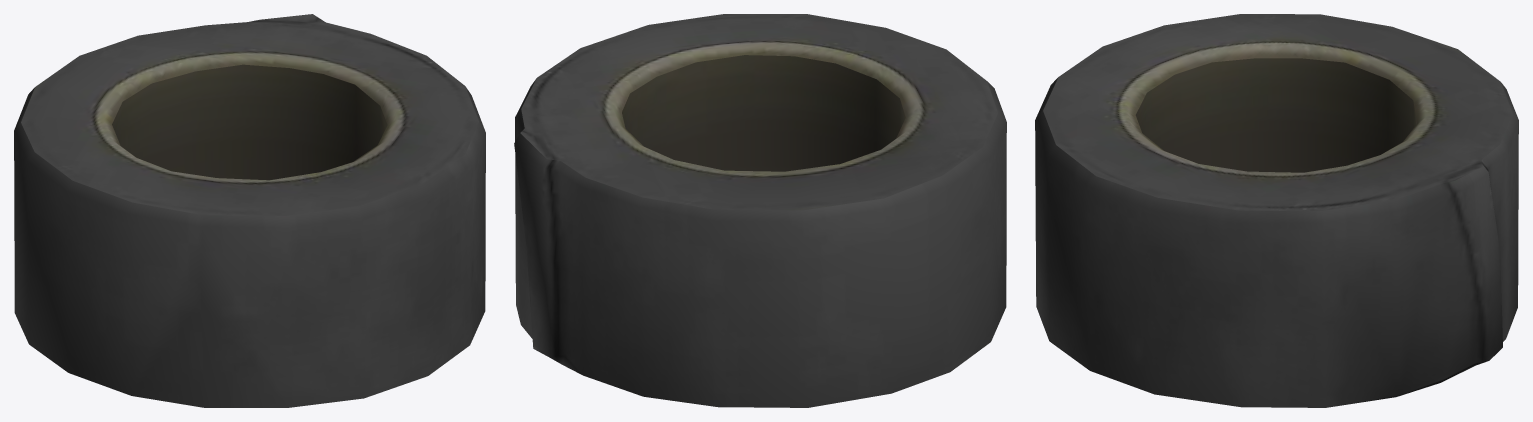
Rendered from ducttape.worldmodel.glb.
3 views of the same model, side by side, from view 1: azimuth 30°, elevation 25°; view 2: azimuth 150°, elevation 25°; view 3: azimuth 270°, elevation 25° (orthographic). The views are drawn at different scales.
Visible parts, largest first — view 1: ductTape_LOD0; view 2: ductTape_LOD0; view 3: ductTape_LOD0.
Part boxes in pixels (left/top/right/bottom): ductTape_LOD0: left=14, top=14, right=485, bottom=407; ductTape_LOD0: left=514, top=14, right=1006, bottom=407; ductTape_LOD0: left=1035, top=14, right=1518, bottom=407.
Size of the model in its own units: 0.2003 by 0.0939 by 0.2017.
1 material, 1 textured.
